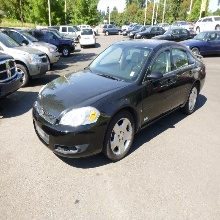no damage: (31, 39, 206, 162), (1, 25, 73, 98), (105, 22, 213, 46)
